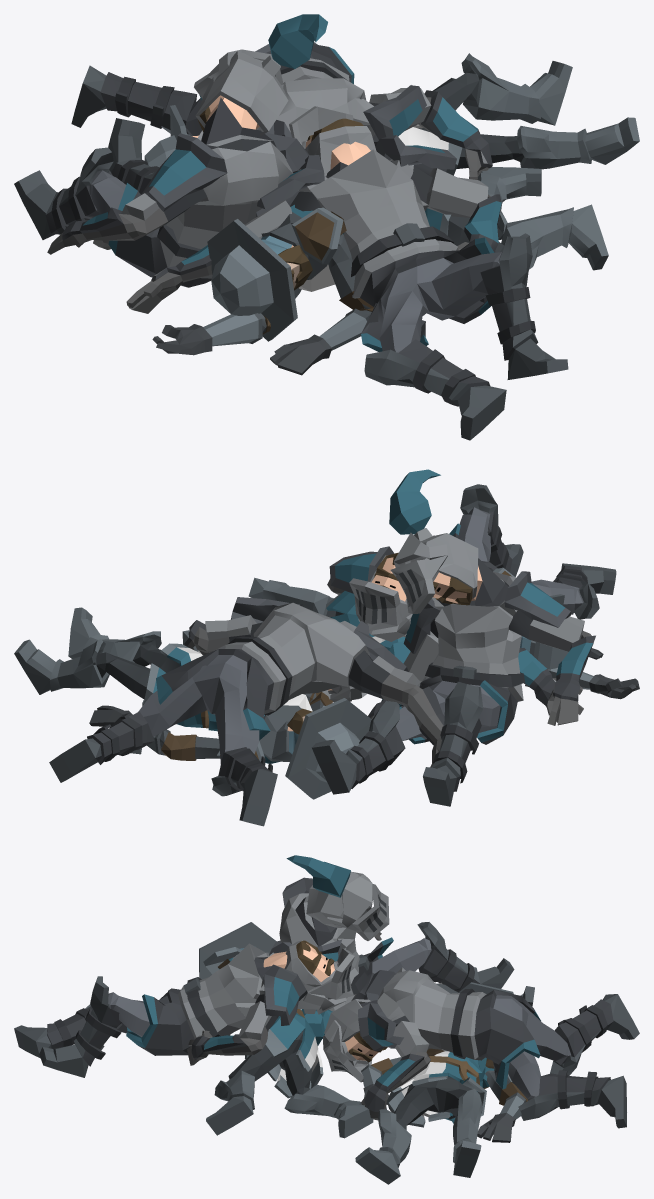
File: SM_Deadbody_Pile_01.fbx
The picture shows the model from 3 angles, top to bottom: view 1: azimuth 30°, elevation 25°; view 2: azimuth 150°, elevation 25°; view 3: azimuth 270°, elevation 25°; orthographic projection. The views are drawn at different scales.
Visible parts, largest first — view 1: SM_Deadbody_Pile_01; view 2: SM_Deadbody_Pile_01; view 3: SM_Deadbody_Pile_01.
Boxes of the visible parts, left/top/right/bottom form: SM_Deadbody_Pile_01: left=14, top=14, right=639, bottom=440; SM_Deadbody_Pile_01: left=14, top=469, right=639, bottom=826; SM_Deadbody_Pile_01: left=14, top=855, right=639, bottom=1184.
Size of the model in its own units: 261 by 123 by 319.
